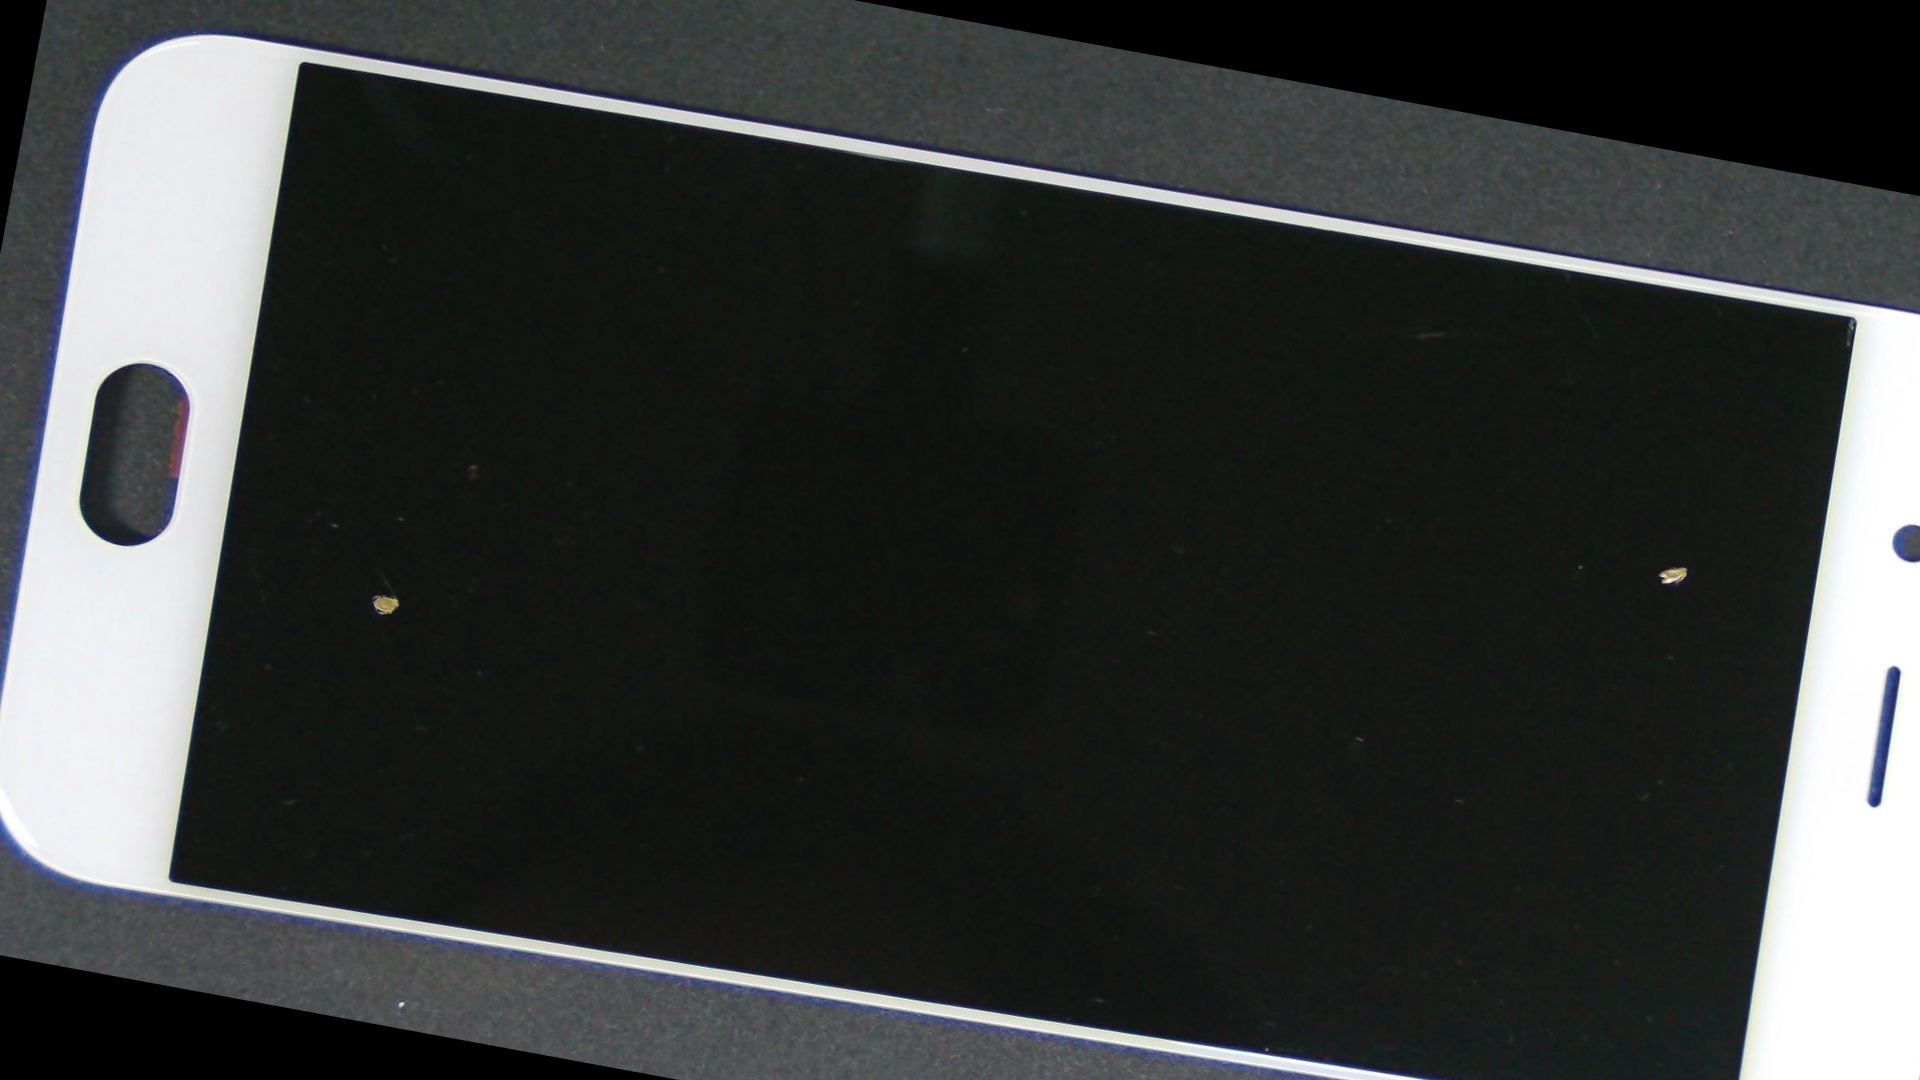oil: (807, 211, 1920, 837), (105, 224, 654, 963)
